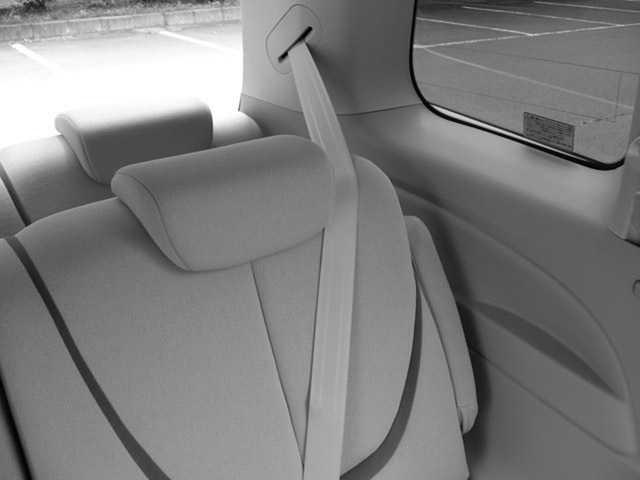Seatbelt: (288, 34, 367, 480)
